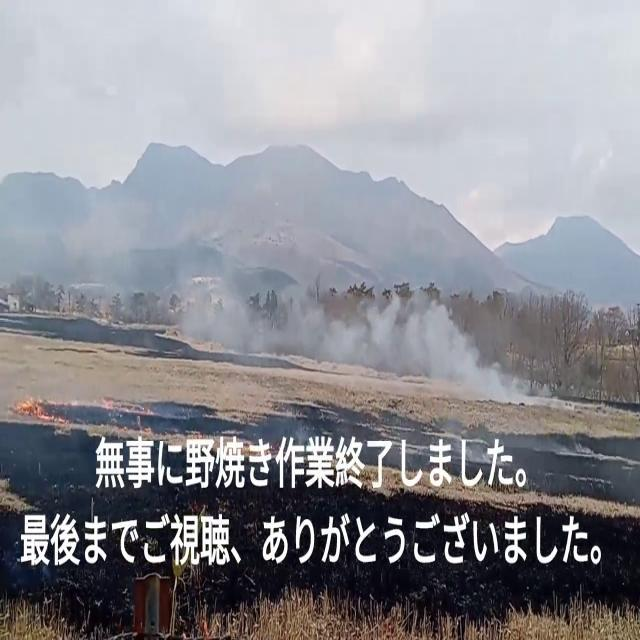Smoke: (220, 262, 506, 388)
